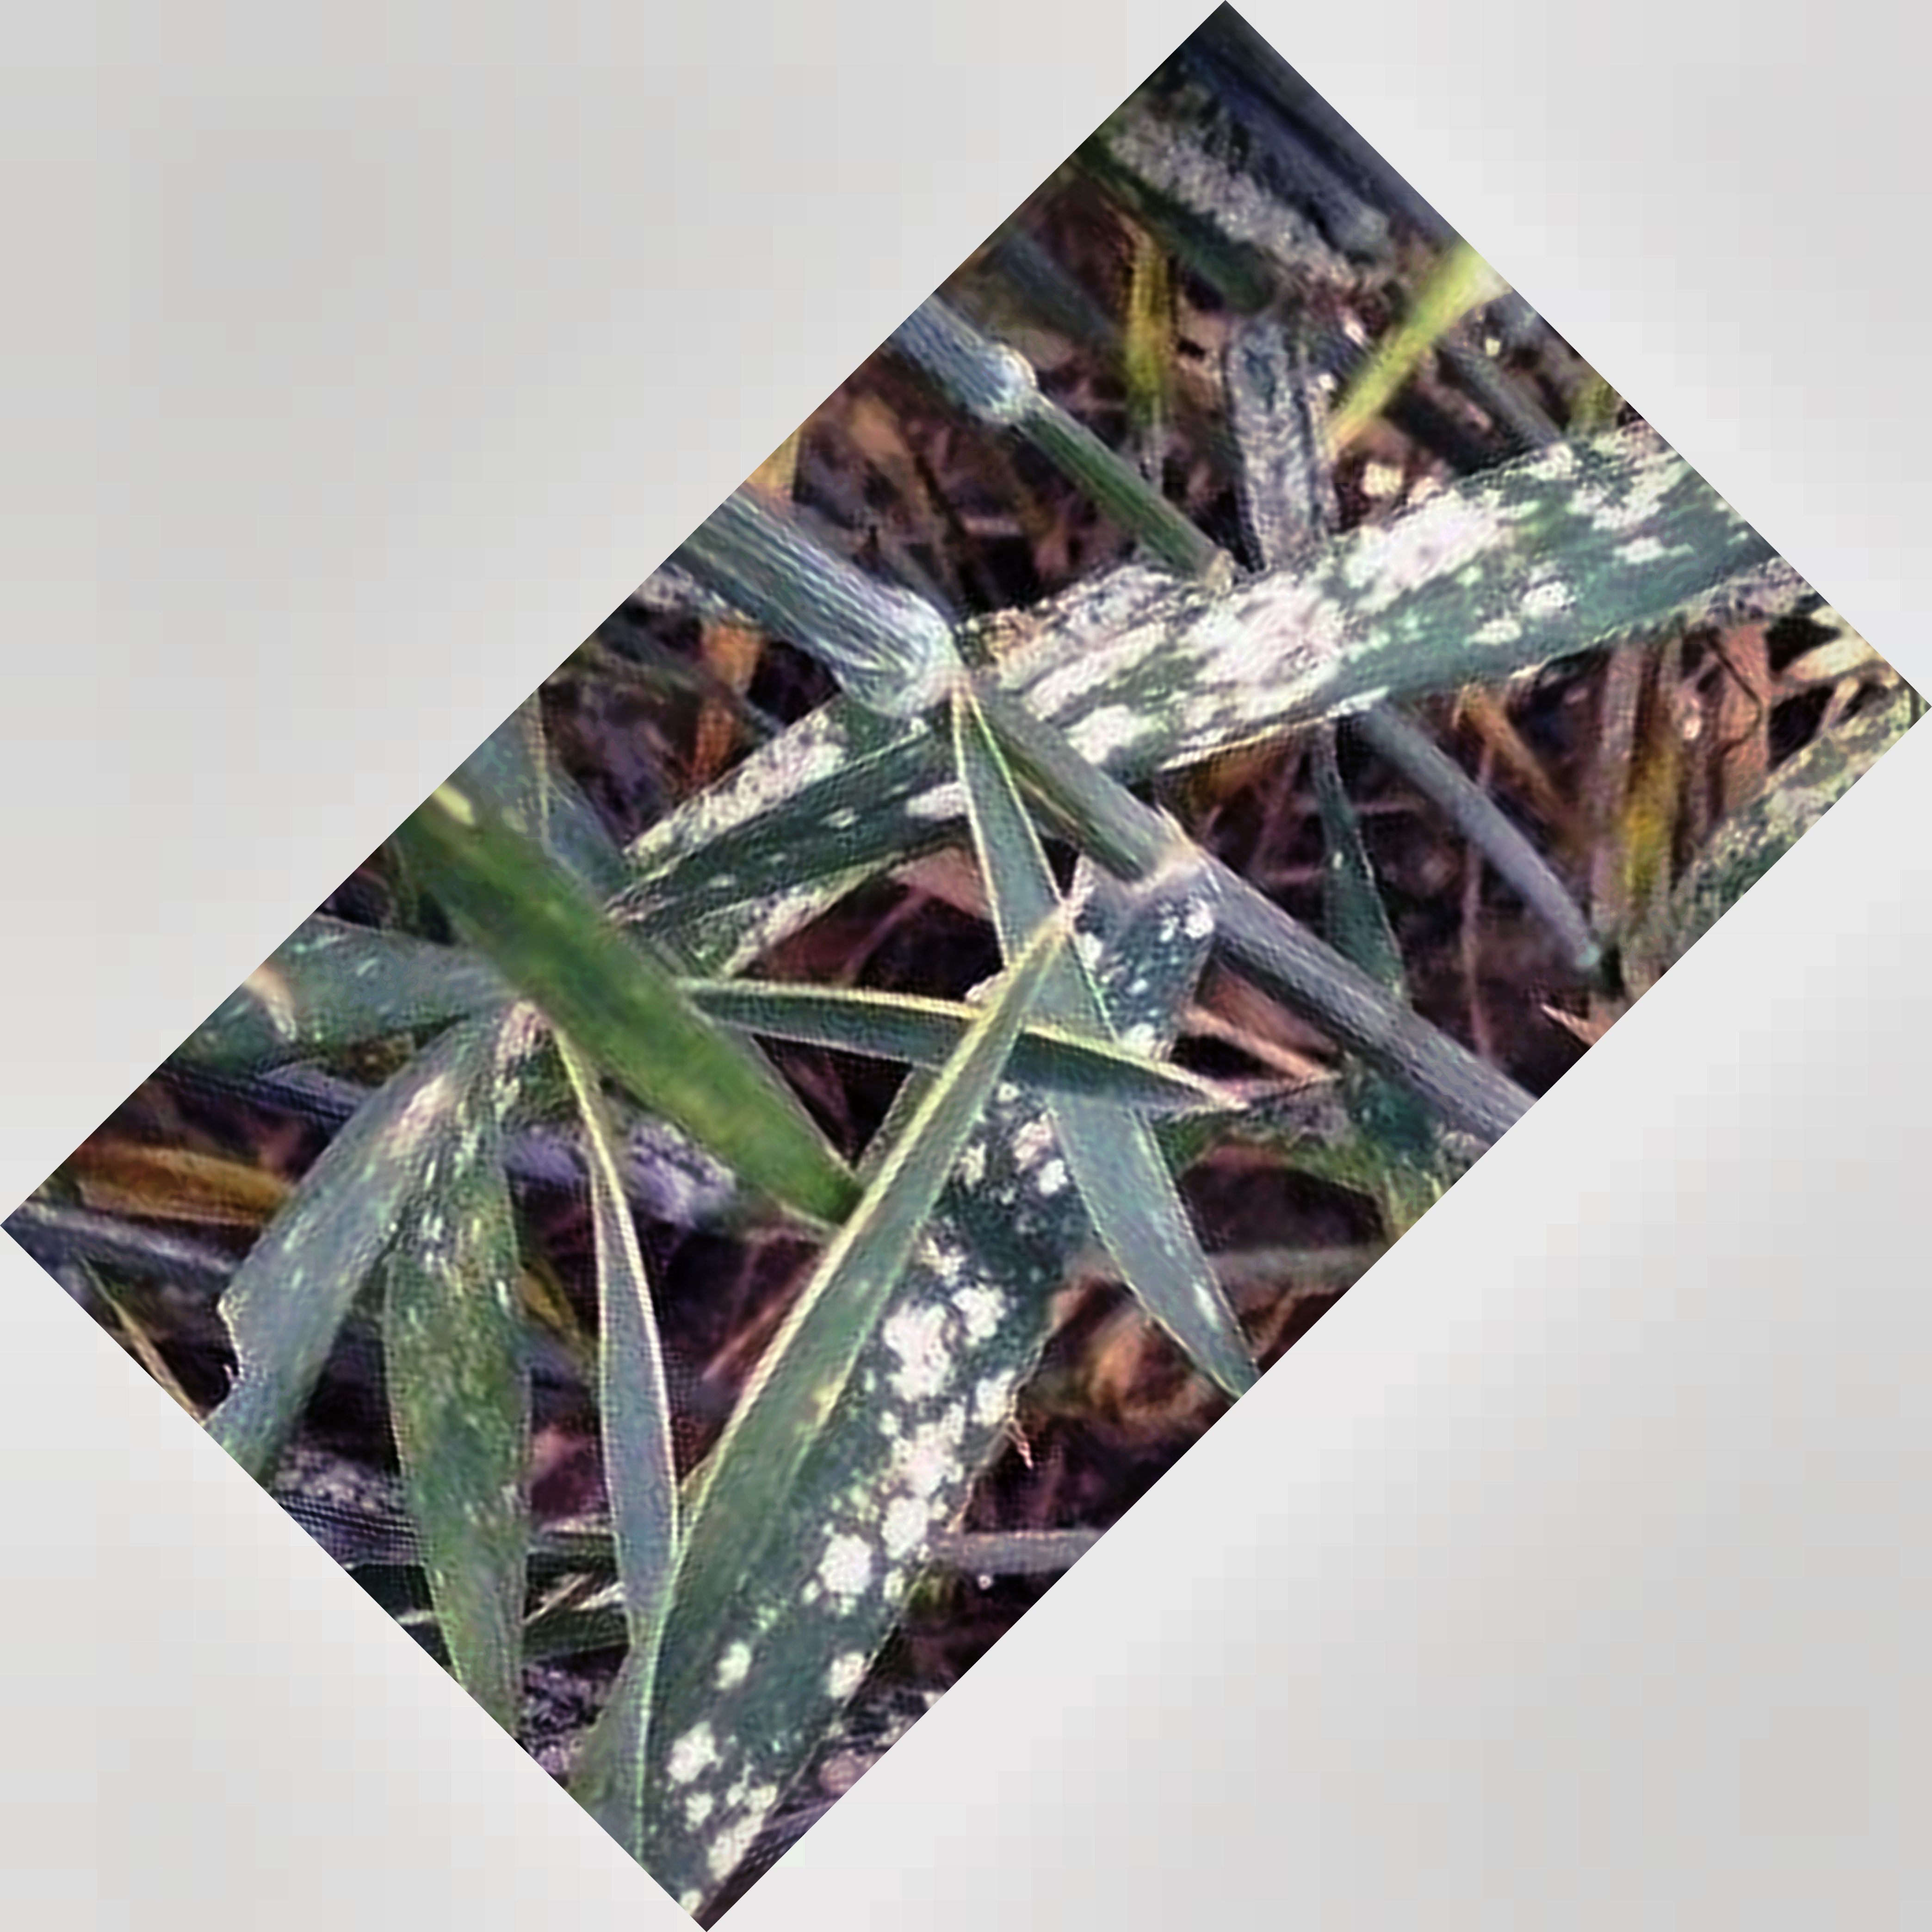Powdery Mildew: (663, 1132, 1090, 1826), (941, 398, 1686, 759)
